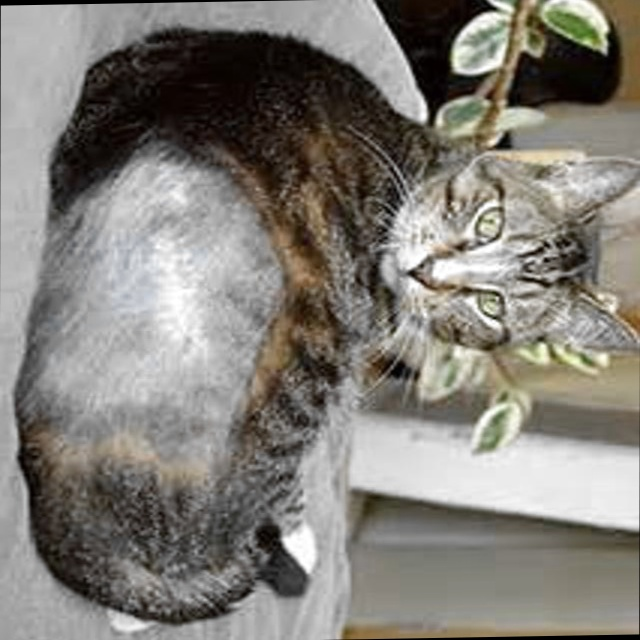hairloss: (44, 160, 269, 471)
